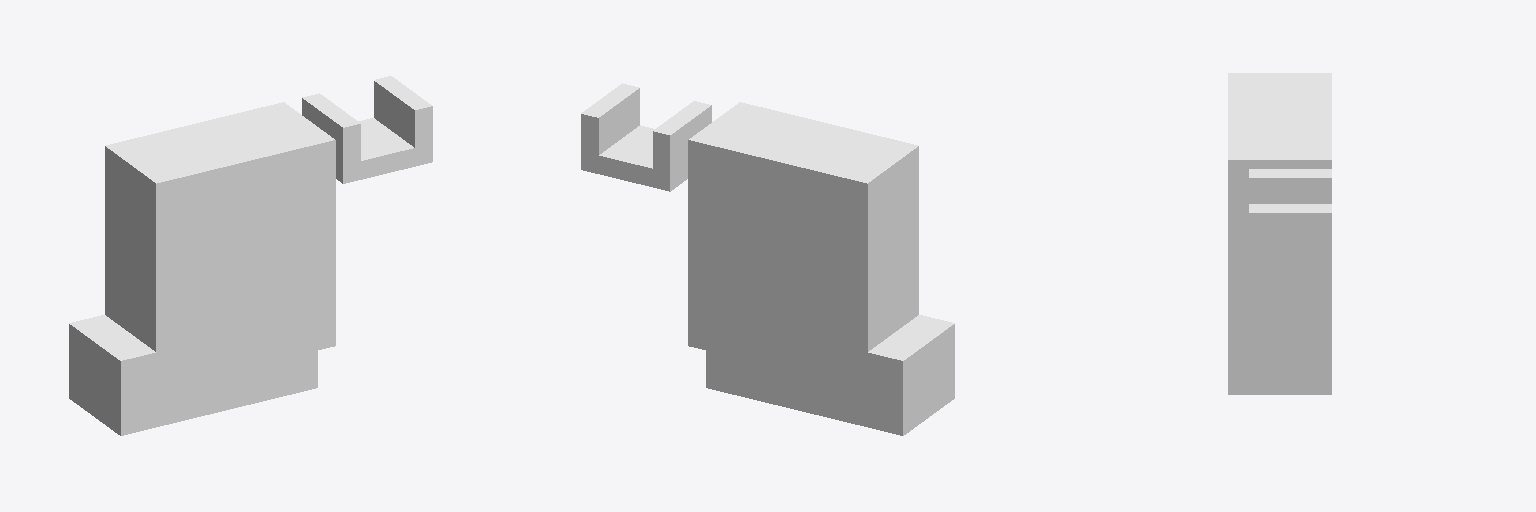
Rendered from Punisher-0.obj.
The picture shows the model from 3 angles: view 1: azimuth 30°, elevation 25°; view 2: azimuth 150°, elevation 25°; view 3: azimuth 270°, elevation 25°; orthographic projection.
Visible parts, largest first — view 1: object 1; view 2: object 1; view 3: object 1.
Part boxes in pixels (left/top/right/bottom): object 1: left=69, top=76, right=432, bottom=435; object 1: left=581, top=83, right=954, bottom=435; object 1: left=1228, top=73, right=1331, bottom=394.
Size of the model in its own units: 1.8 by 1.3 by 0.5.